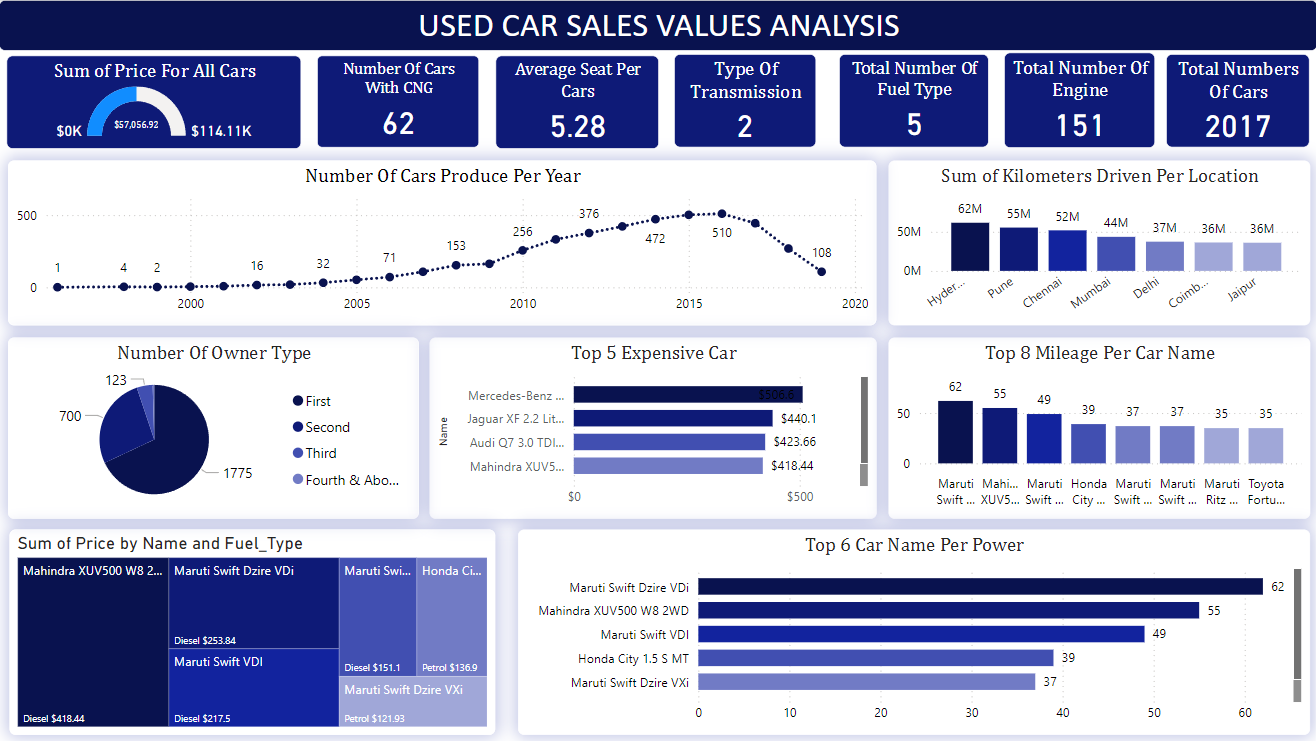

What the dashboard file says about the page in this screenshot:
{"tool":"powerbi","page":{"name":"Page 1","canvas":[1280,720],"ordinal":0},"visuals":[{"type":"textbox","title":"USED CAR SALES VALUES ANALYSIS","box":[0,0,1279.4,49.5],"z":0},{"type":"barChart","title":"Top 5 Expensive Car","fields":{"Y":["Sum(used_cars_data.Price)"],"Category":["used_cars_data.Name"]},"box":[417.7,327.5,433.8,176.1],"z":1000},{"type":"columnChart","title":"Top 8 Mileage Per Car Name","fields":{"Category":["used_cars_data.Name"],"Y":["CountNonNull(used_cars_data.Mileage)"]},"box":[863.1,327.5,409,176.1],"z":2000},{"type":"pieChart","title":"Number Of Owner Type","fields":{"Category":["used_cars_data.Owner_Type"],"Y":["Count(used_cars_data.Name)"]},"box":[8.7,327.5,398.8,176.1],"z":3000},{"type":"clusteredColumnChart","title":"Sum of Kilometers Driven Per Location","fields":{"Y":["Sum(used_cars_data.Kilometers_Driven)"],"Category":["used_cars_data.Location"]},"box":[863.1,155.7,409,160.1],"z":4000},{"type":"lineChart","title":"Number Of Cars Produce Per Year","fields":{"Category":["used_cars_data.Year"],"Y":["Count(used_cars_data.Name)"]},"box":[8.7,155.7,842.8,160.1],"z":5000},{"type":"clusteredBarChart","title":"Top 6 Car Name Per Power ","fields":{"Category":["used_cars_data.Name"],"Y":["CountNonNull(used_cars_data.Power)"]},"box":[503.6,513.8,768.5,199.4],"z":6000},{"type":"treemap","fields":{"Group":["used_cars_data.Name"],"Details":["used_cars_data.Fuel_Type"],"Values":["Sum(used_cars_data.Price)"]},"box":[10.2,513.8,471.6,199.4],"z":7000},{"type":"card","title":"Number Of Cars With CNG","fields":{"Values":["Count(used_cars_data)"]},"box":[308.9,54.5,157.5,89.3],"z":8000},{"type":"card","title":"Average Seat Per Cars","fields":{"Values":["Avg(used_cars_data.Seats)"]},"box":[481.5,54.5,159,90.9],"z":8001},{"type":"card","title":"Type Of Transmission","fields":{"Values":["Count(used_cars_data.Transmission)"]},"box":[655.7,53,137.8,90.9],"z":8002},{"type":"card","title":"Total Number Of  Fuel Type","fields":{"Values":["Count(used_cars_data.Fuel_Type)"]},"box":[814.6,53,145.4,90.9],"z":8003},{"type":"card","title":"Total Numbers Of Cars ","fields":{"Values":["Count(used_cars_data.Name)"]},"box":[1132.6,53,139.3,90.9],"z":8005},{"type":"card","title":"Total Number Of Engine","fields":{"Values":["Count(used_cars_data.Engine)"]},"box":[975.1,51.5,146.9,92.4],"z":8006},{"type":"gauge","title":"Sum of Price For All Cars","fields":{"Y":["Sum(used_cars_data.Price)"]},"box":[7.6,54.5,286.2,90.9],"z":8007}]}

Visuals, with their boxes in screenshot pixels (x1, y1, x2, y2), scaled from the page's 1280x720 canvas onto the 1316x741 screenshot:
"USED CAR SALES VALUES ANALYSIS" textbox: locate(0, 0, 1315, 51)
"Top 5 Expensive Car" barChart: locate(429, 337, 875, 518)
"Top 8 Mileage Per Car Name" columnChart: locate(887, 337, 1308, 518)
"Number Of Owner Type" pieChart: locate(9, 337, 419, 518)
"Sum of Kilometers Driven Per Location" clusteredColumnChart: locate(887, 160, 1308, 325)
"Number Of Cars Produce Per Year" lineChart: locate(9, 160, 875, 325)
"Top 6 Car Name Per Power " clusteredBarChart: locate(518, 529, 1308, 734)
treemap - used_cars_data.Name x used_cars_data.Fuel_Type: locate(10, 529, 495, 734)
"Number Of Cars With CNG" card: locate(318, 56, 480, 148)
"Average Seat Per Cars" card: locate(495, 56, 659, 150)
"Type Of Transmission" card: locate(674, 55, 816, 148)
"Total Number Of  Fuel Type" card: locate(838, 55, 987, 148)
"Total Numbers Of Cars " card: locate(1164, 55, 1308, 148)
"Total Number Of Engine" card: locate(1003, 53, 1154, 148)
"Sum of Price For All Cars" gauge: locate(8, 56, 302, 150)
